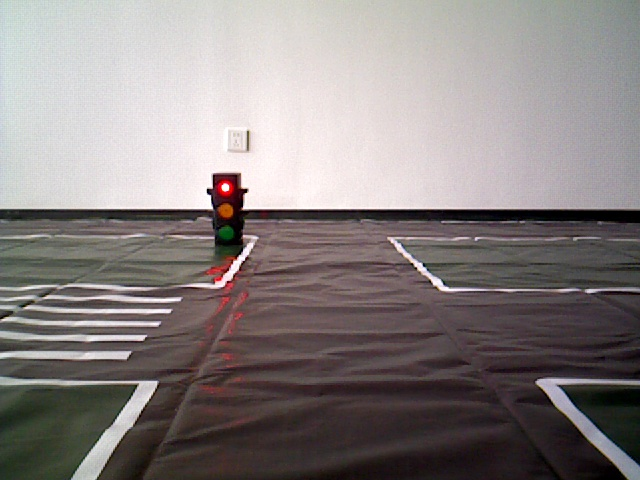red: (211, 170, 239, 250)
